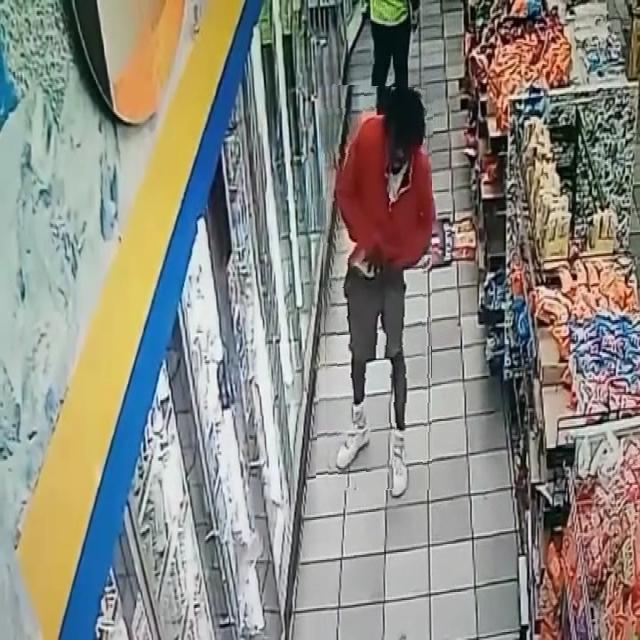Shoplifting: (319, 85, 432, 490)
